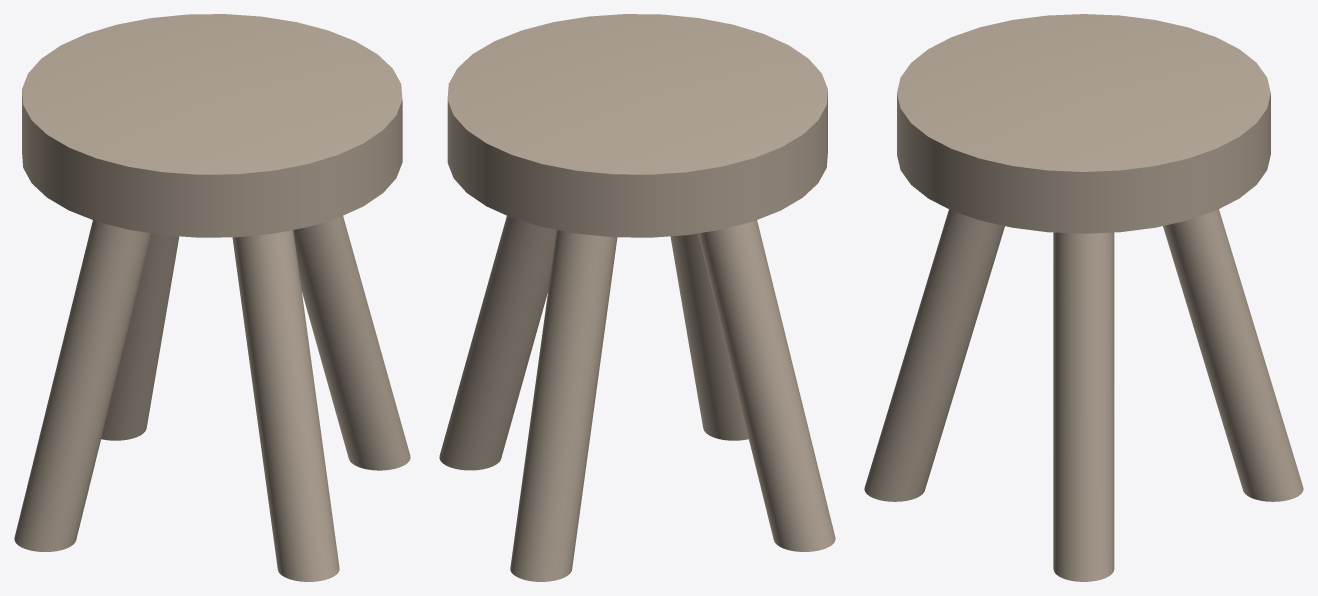
The model's file is Tabouret1_3.fbx.
The picture shows the model from 3 angles, left to right: view 1: azimuth 30°, elevation 25°; view 2: azimuth 150°, elevation 25°; view 3: azimuth 270°, elevation 25°; orthographic projection.
Visible parts, largest first — view 1: pCylinder1599, pCylinder1632; view 2: pCylinder1599, pCylinder1632; view 3: pCylinder1599, pCylinder1632.
Boxes of the visible parts, <box> form: pCylinder1599: <box>22,14,402,237</box>; pCylinder1632: <box>14,216,410,581</box>; pCylinder1599: <box>447,14,827,237</box>; pCylinder1632: <box>439,216,835,581</box>; pCylinder1599: <box>897,14,1270,233</box>; pCylinder1632: <box>864,209,1303,581</box>.
Bounding box in the file's own units: 41.39 × 42.19 × 41.38.
